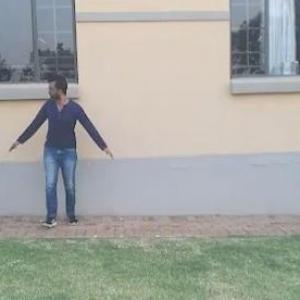land: (17, 68, 121, 241)
